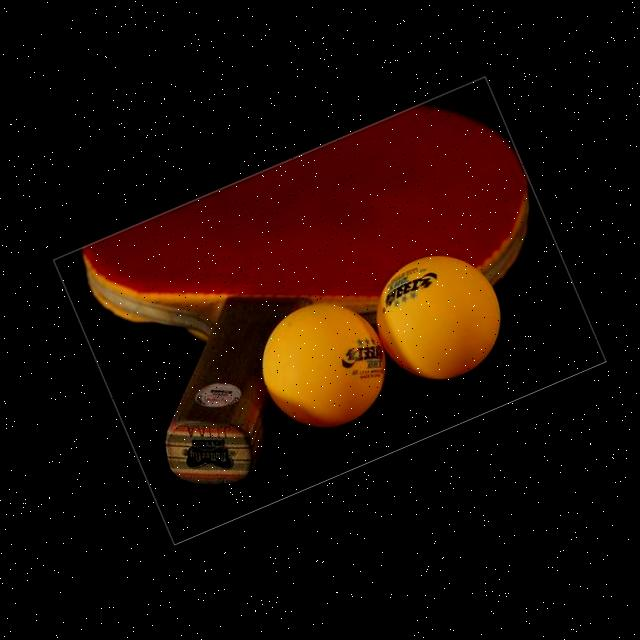ping-pong-ball: (240, 280, 406, 446), (354, 232, 520, 398)
